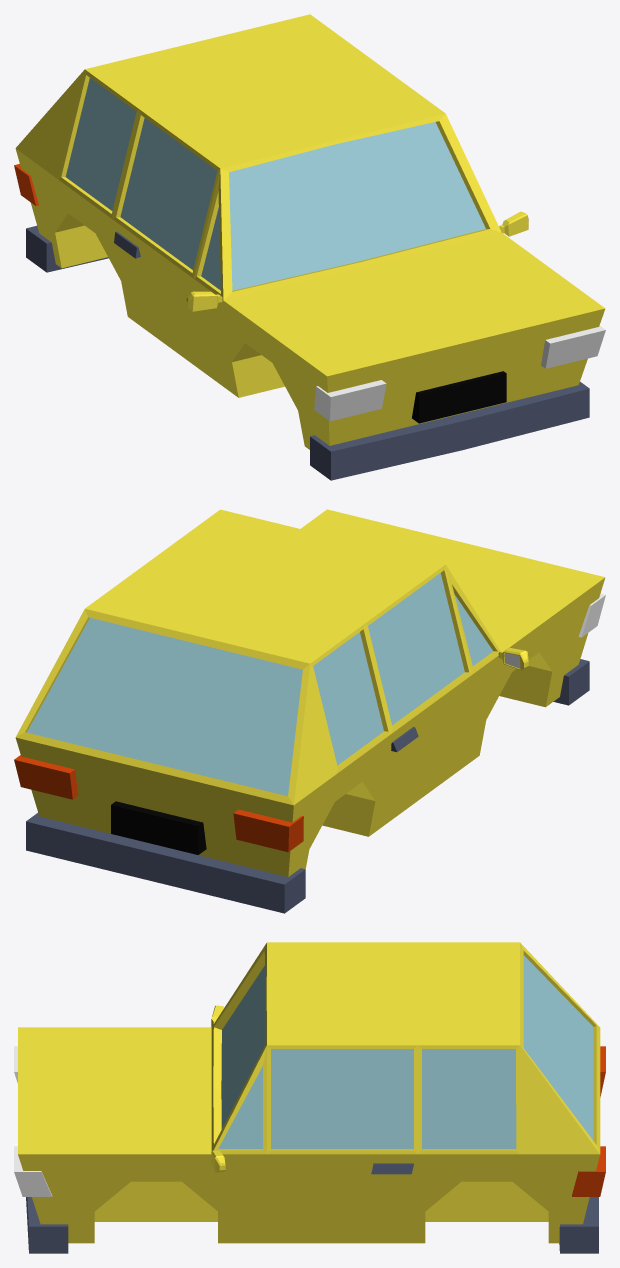
The model's file is Car.fbx.
The picture shows the model from 3 angles, top to bottom: view 1: azimuth 30°, elevation 25°; view 2: azimuth 150°, elevation 25°; view 3: azimuth 270°, elevation 25°; orthographic projection. The views are drawn at different scales.
Visible parts, largest first — view 1: Car.001; view 2: Car.001; view 3: Car.001.
Part boxes in pixels (x1,y1,x2,y2): Car.001: [14, 14, 605, 480]; Car.001: [14, 509, 605, 913]; Car.001: [14, 942, 605, 1253].
Bounding box in the file's own units: 2.19 × 1.32 × 3.53.
